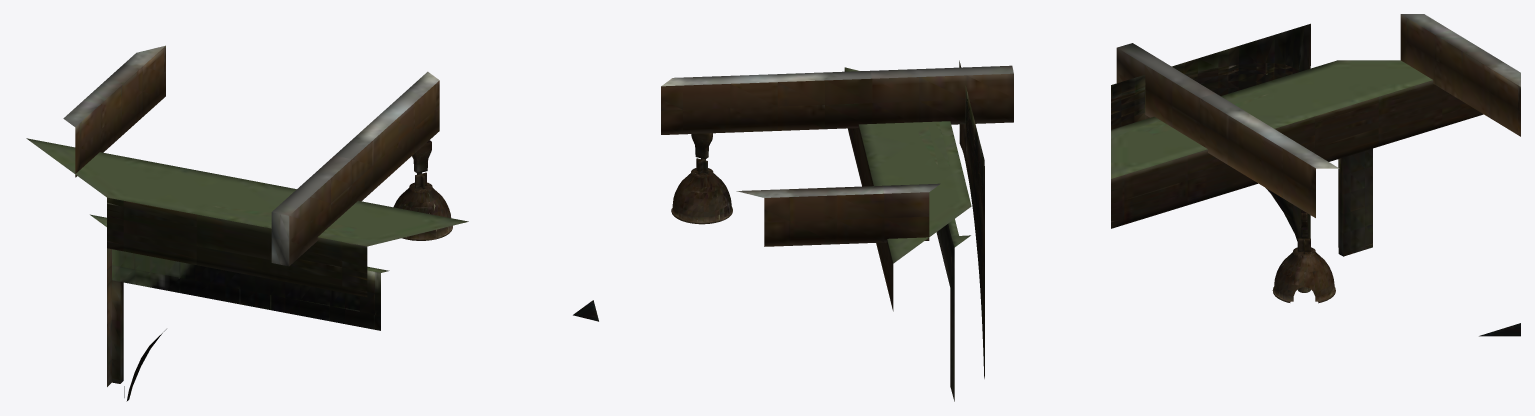
3 views of the same model, side by side, from view 1: azimuth 30°, elevation 25°; view 2: azimuth 150°, elevation 25°; view 3: azimuth 270°, elevation 25° (orthographic). The views are drawn at different scales.
Size of the model in its own units: 2.83 by 2 by 3.18.
1 material, 1 textured.
